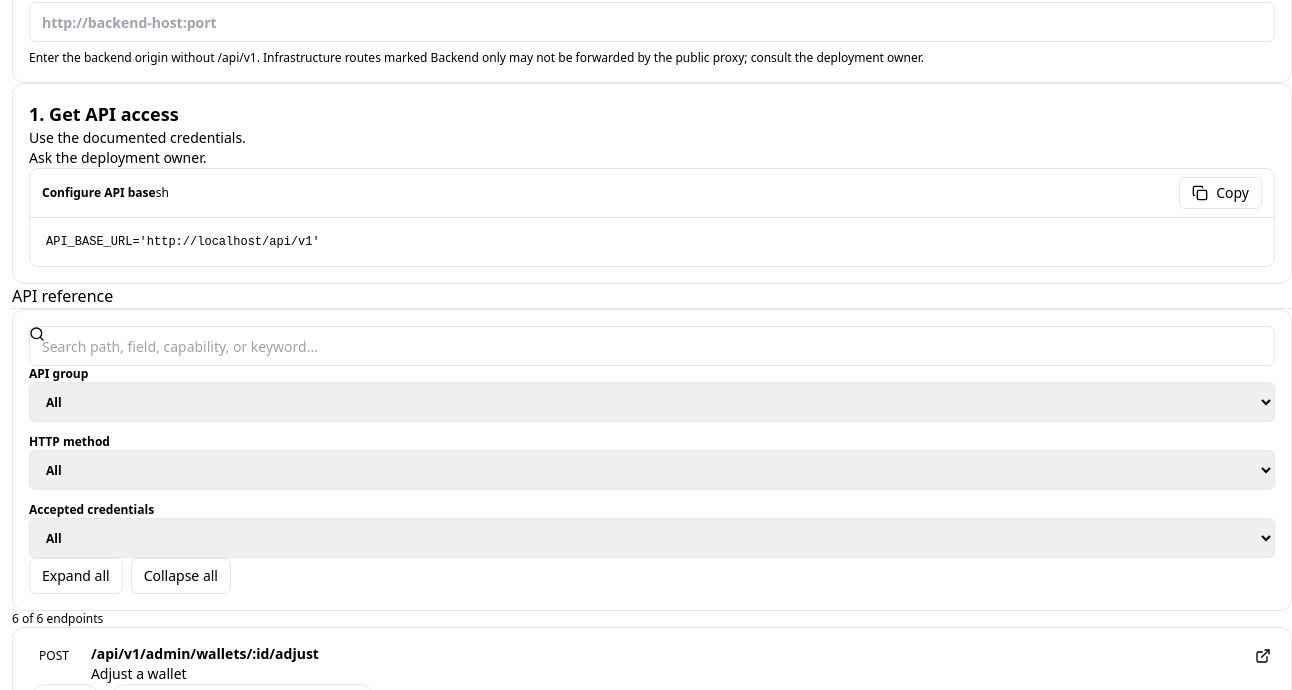
it: developer documentation › intersects search, method and access filters while searching nested request fields
(page scrolled)
In the field named "Search the API reference": (652, 346) [29, 326, 1275, 366], type "reason"
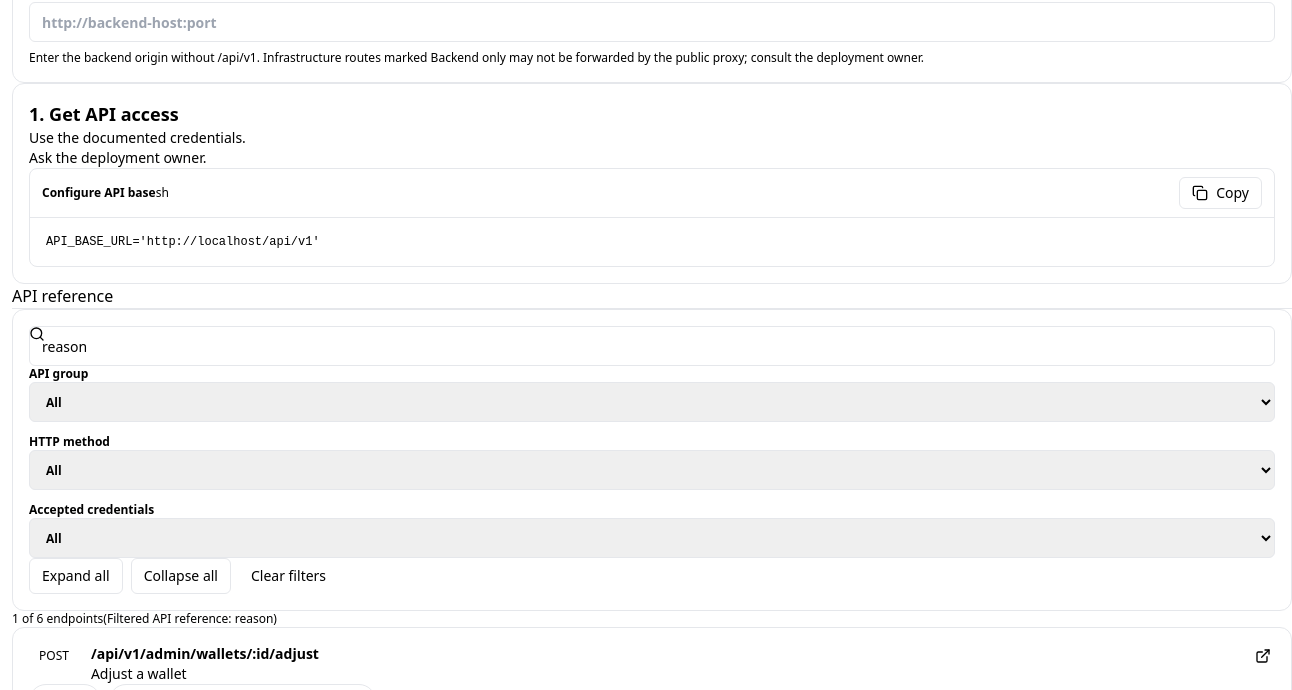
Expected: the heading "/api/v1/admin/wallets/:id/adjust" is shown, [91, 644, 319, 663]
Expected: the heading "/api/v1/member/wallets" is not shown
Select "GET" in the dropdown labelled "HTTP method": (652, 470) [29, 450, 1275, 490]
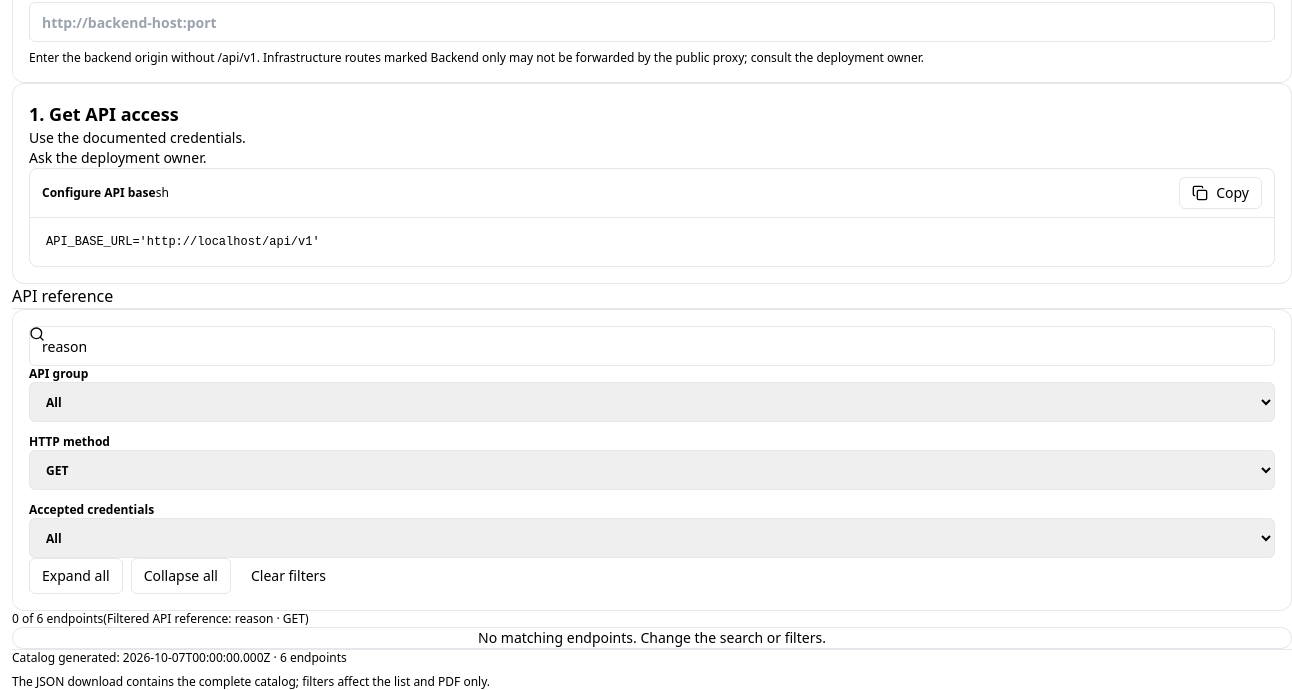
Expected: the text "No matching endpoints. Change the search or filters." is shown, [12, 627, 1291, 649]
Click the button "Clear filters": (289, 576) [239, 558, 338, 594]
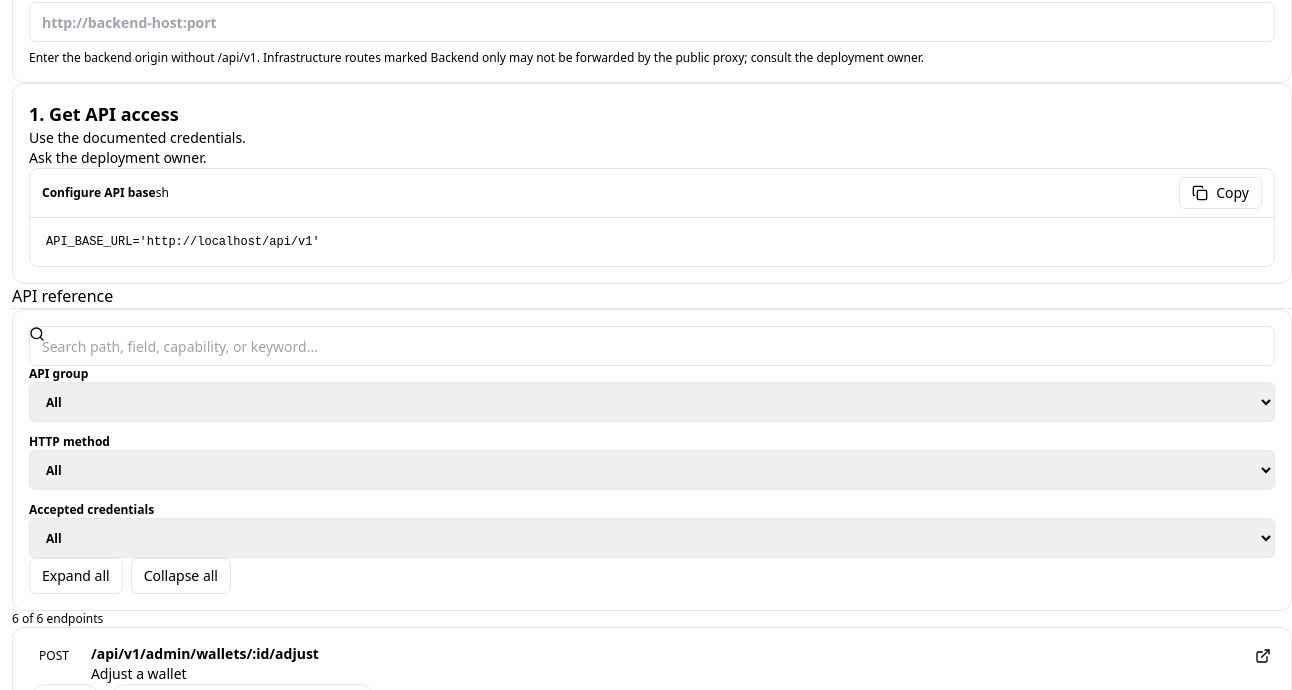
Select "Member session" in the dropdown labelled "Accepted credentials": (652, 538) [29, 518, 1275, 558]
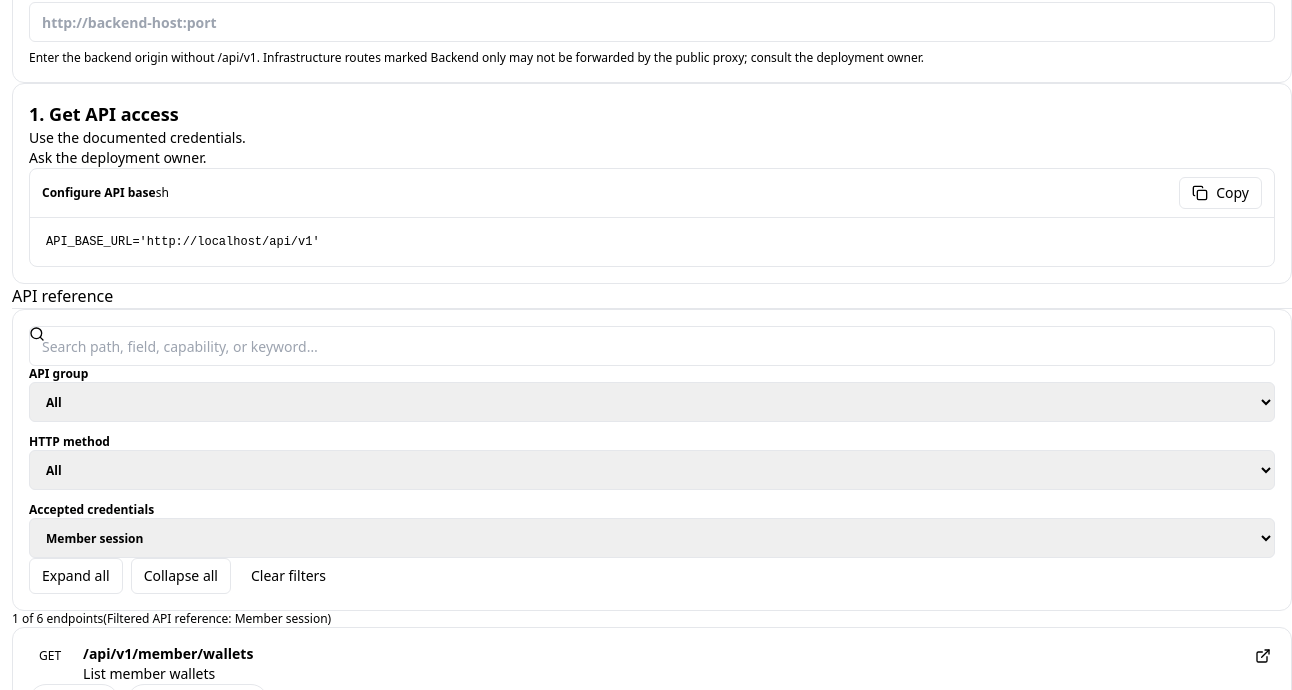
Expected: the heading "/api/v1/member/wallets" is shown, [83, 644, 253, 663]
Expected: the heading "/api/v1/admin/wallets/:id/adjust" is gone
